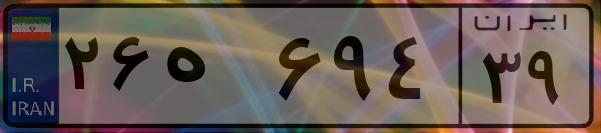2: (57, 26, 110, 100)
3: (475, 38, 525, 113)
4: (385, 28, 445, 110)
6: (270, 28, 330, 110), (110, 28, 158, 98)
9: (330, 28, 385, 110), (525, 38, 570, 115)
ه: (158, 20, 270, 120)
